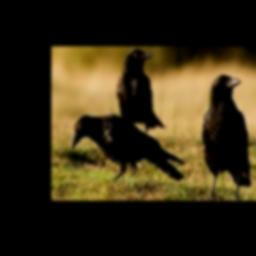Crow: (71, 114, 185, 182), (202, 74, 251, 199), (117, 49, 165, 136)
